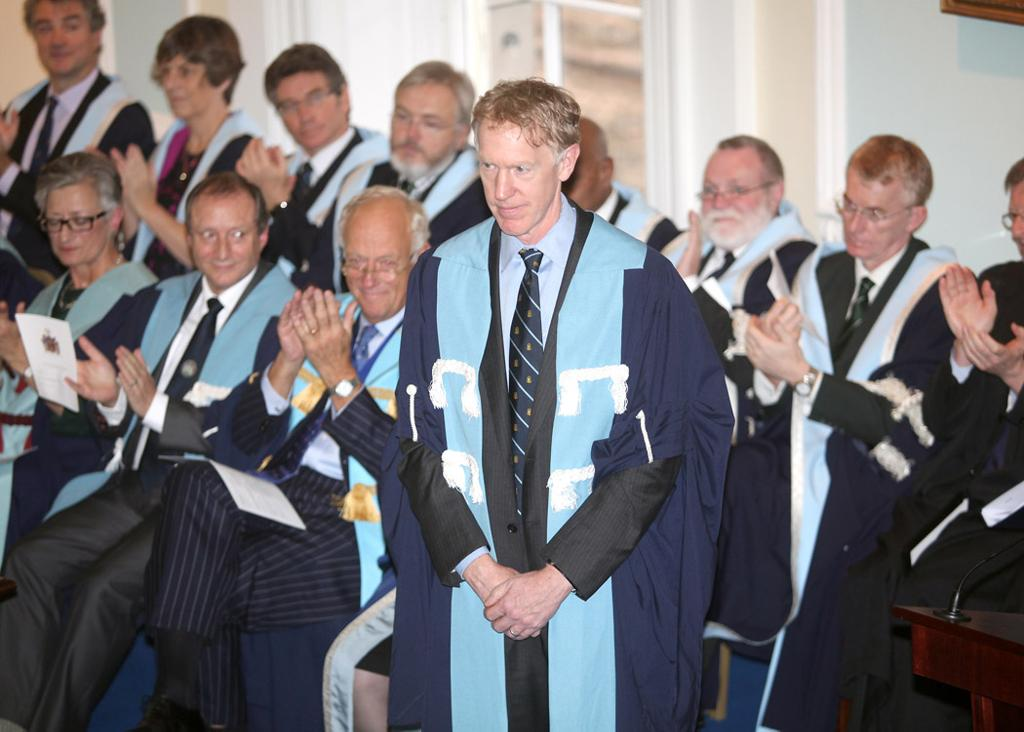face: (479, 137, 559, 234), (344, 227, 414, 319), (701, 157, 770, 248), (191, 198, 259, 286), (391, 87, 458, 172), (273, 70, 344, 147), (45, 183, 109, 265), (842, 183, 905, 257), (30, 2, 93, 73), (160, 50, 216, 117), (553, 136, 602, 212), (1008, 171, 1024, 257)
